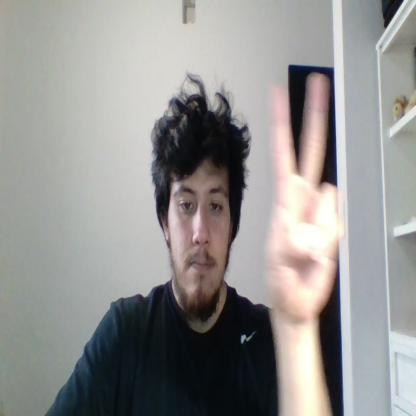V: (266, 72, 340, 320)
